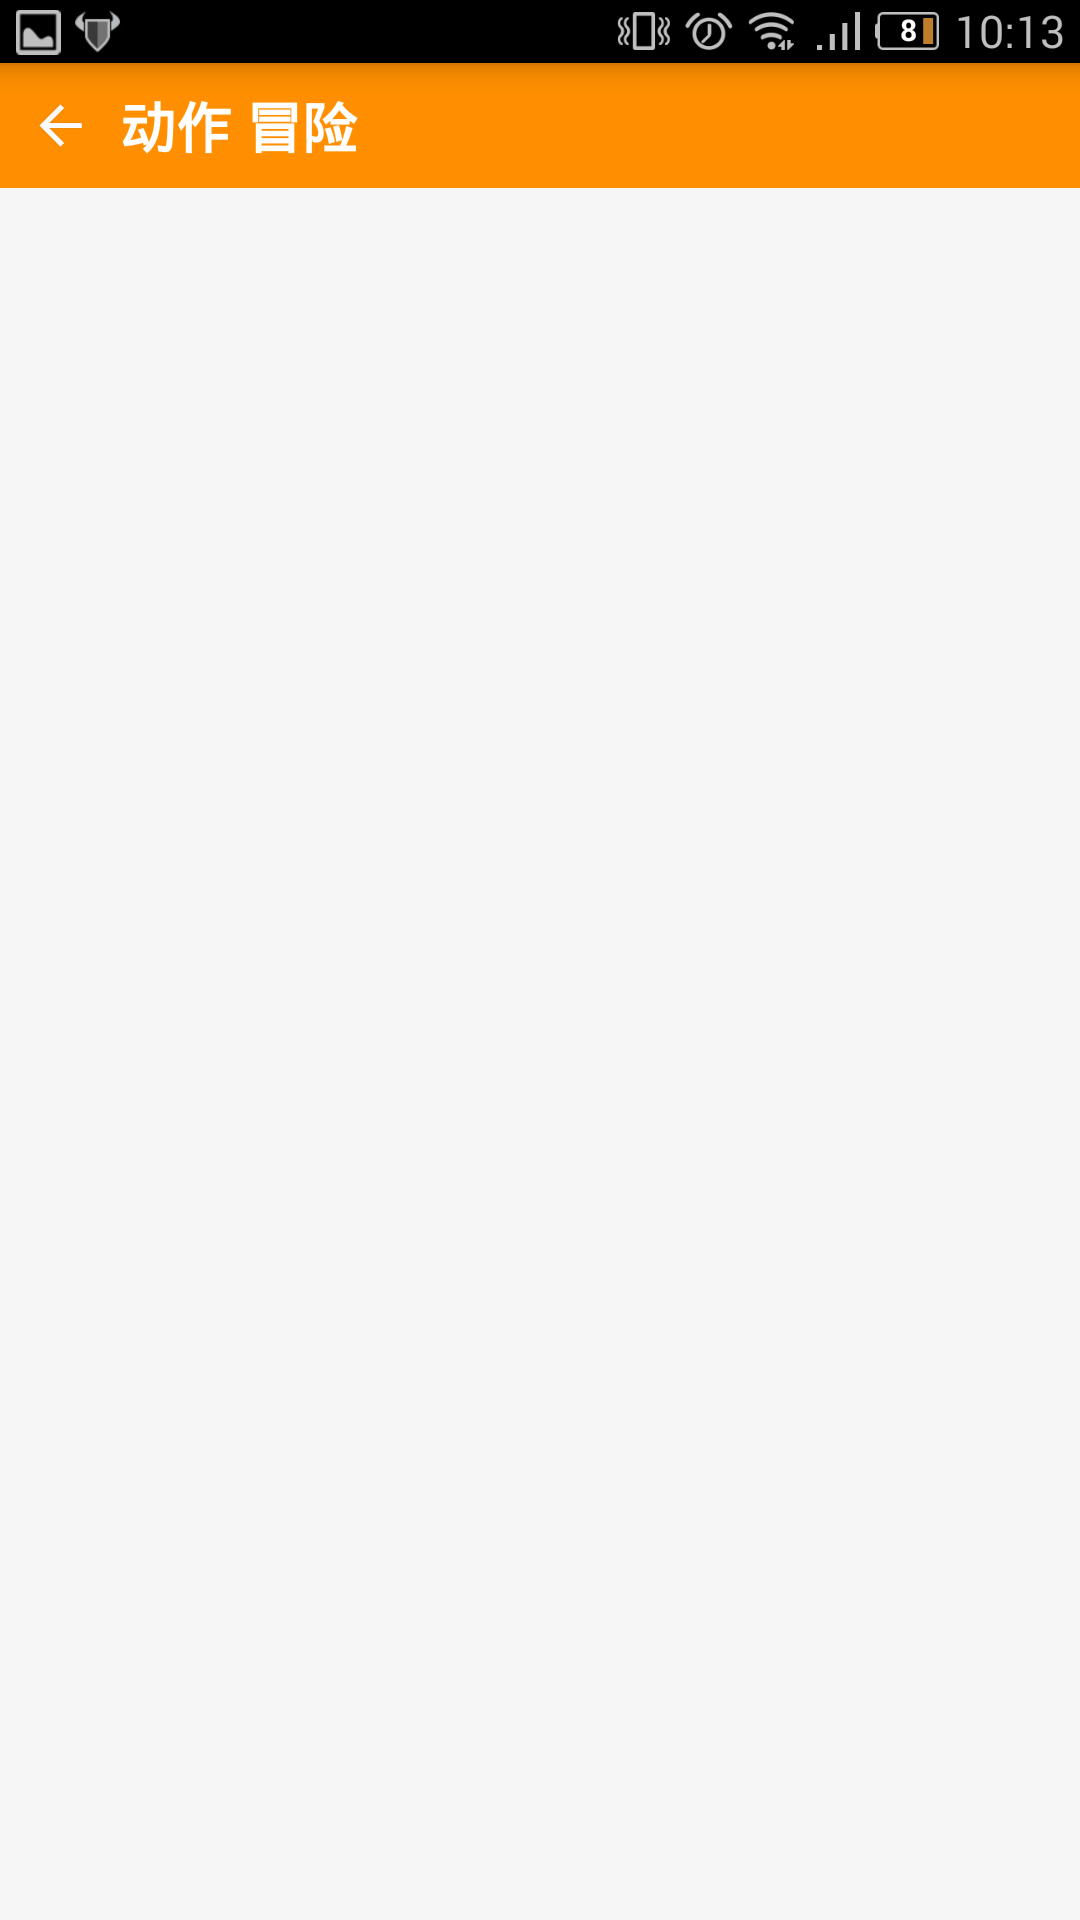imgbutton: (36, 88, 98, 174)
